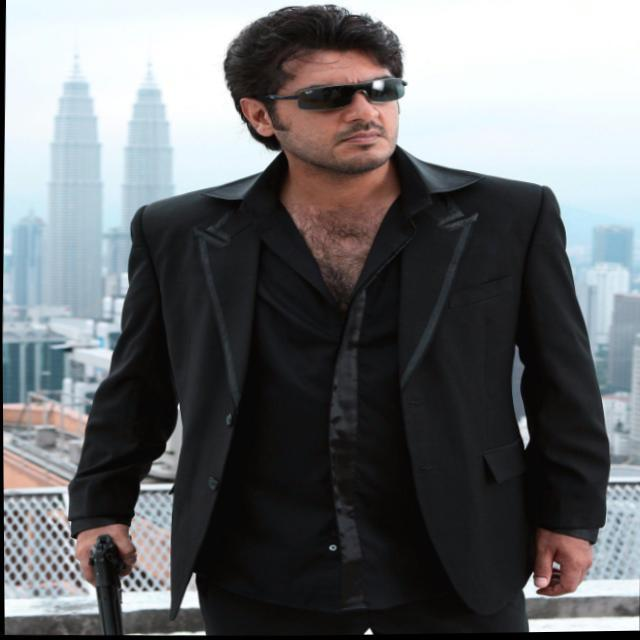weapon: (80, 528, 144, 636)
